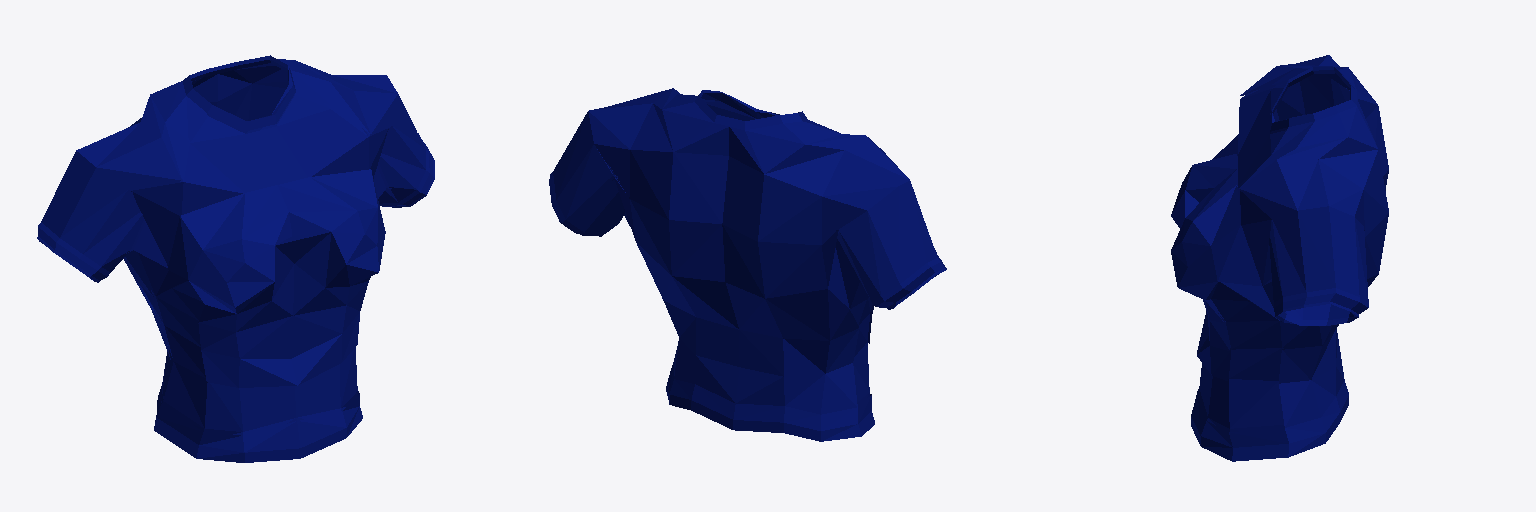
The model's file is girlt.obj.
The picture shows the model from 3 angles: view 1: azimuth 30°, elevation 25°; view 2: azimuth 150°, elevation 25°; view 3: azimuth 270°, elevation 25°; orthographic projection.
Size of the model in its own units: 32.3 by 27.07 by 15.74.